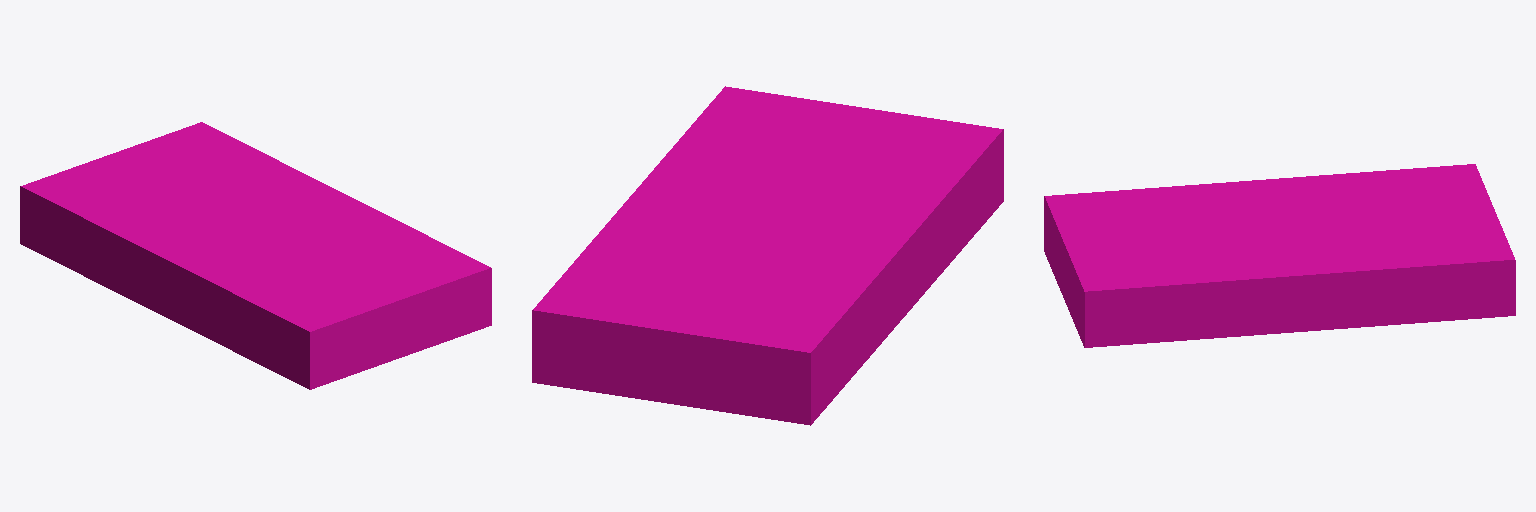
robot.urdf — Interference:
<?xml version="1.0"?>
<robot name="Interference">
  <link name="baseLink">
    <inertial>
      <origin xyz="0.0 0.0 0.0" rpy="0.0 0.0 0.0"/>
      <inertia ixx="0.0" ixy="0.0" ixz="0.0" iyy="0.0" iyz="0.0" izz="0.0"/>
      <mass value="0"/>
    </inertial>
    <visual>
      <origin xyz="0.0 0.0 0.0" rpy="0.0 0.0 0.17484157513558873"/>
      <geometry>
        <box size="0.03700889288625013 0.07039124363494176 0.01"/>
      </geometry>
      <material name="color">
        <color rgba="0.8925014592004947 0.09231387923170065 0.6746648322345404 1.0"/>
      </material>
    </visual>
  </link>
</robot>

--- Facts derived from the render (not from the file) ---
Views: 3 orthographic renders of the robot side by side, from view 1: azimuth 30°, elevation 25°; view 2: azimuth 150°, elevation 25°; view 3: azimuth 270°, elevation 25°.
Robot: Interference — 1 links, 0 joints (none); root link baseLink; default pose: every joint at zero.
Visible links, largest first — view 1: baseLink; view 2: baseLink; view 3: baseLink.
Link boxes in pixels (x1=…): baseLink: x1=20, y1=122, x2=491, y2=389; baseLink: x1=532, y1=86, x2=1003, y2=425; baseLink: x1=1044, y1=164, x2=1515, y2=347.
Size in the robot's own frame: 0.0487 by 0.0758 by 0.01 metres.
Geometry: primitives only (box / cylinder / sphere), no mesh files.